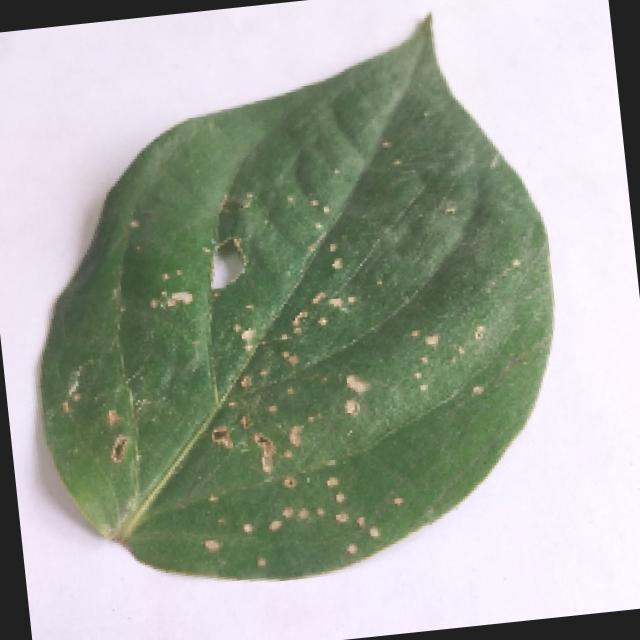pollu-disease: (0, 0, 575, 601)
